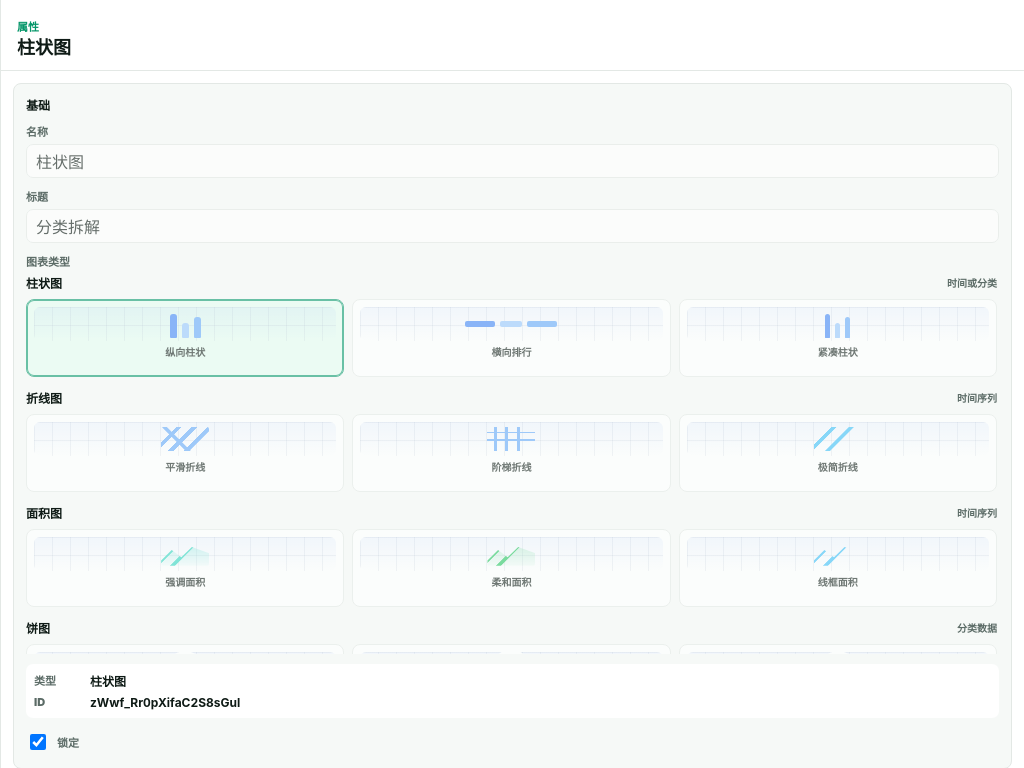
Test: DesignerPropertyPanel › disables edits for locked components and allows unlocking
The width and height of the screenshot is (1024, 768).
Expected: the field with test id "component-name-input" is disabled, x1=26 y1=144 x2=999 y2=178
Click the checkbox with test id "component-locked-input" at (38, 742), box x1=30 y1=734 x2=46 y2=750
(page scrolled)
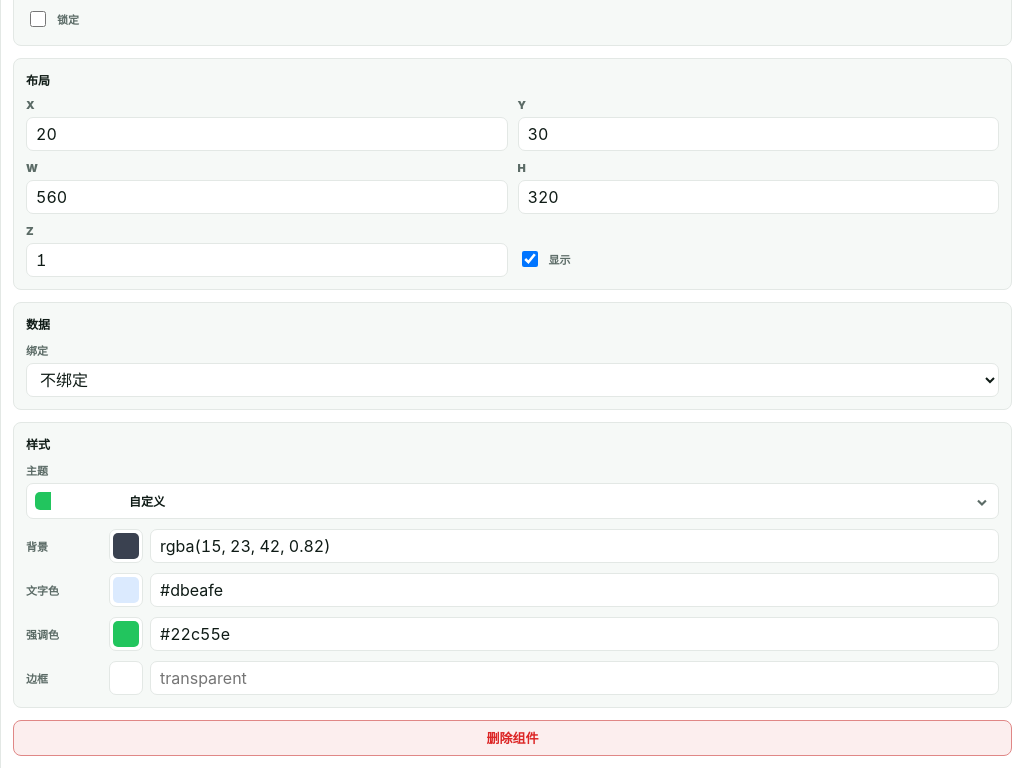
Result: the number field with test id "layout-x-input" is enabled at x1=26 y1=117 x2=508 y2=151
Result: the button with test id "chart-theme-trigger" is enabled at x1=26 y1=483 x2=999 y2=519
Result: the button with test id "color-trigger-accentColor" is enabled at x1=109 y1=617 x2=143 y2=651
